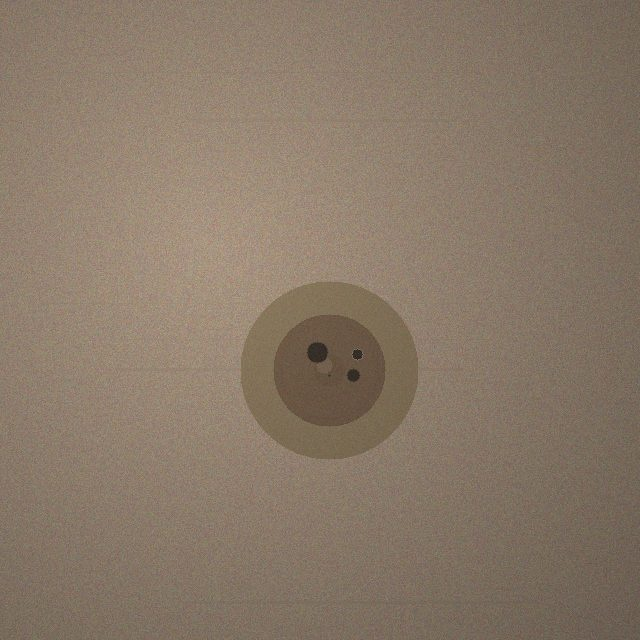shrinkage: (240, 281, 418, 459)
